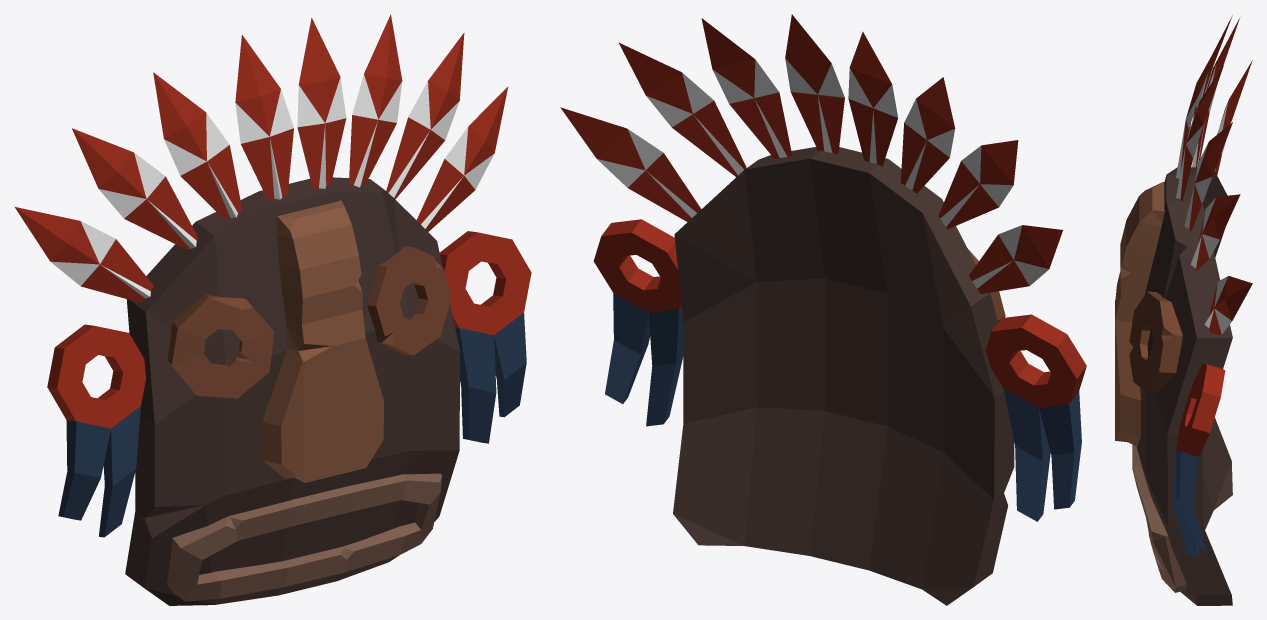
File: Mask_2.fbx
The picture shows the model from 3 angles, left to right: view 1: azimuth 30°, elevation 25°; view 2: azimuth 150°, elevation 25°; view 3: azimuth 270°, elevation 25°; orthographic projection. The views are drawn at different scales.
Visible parts, largest first — view 1: Mask_2; view 2: Mask_2; view 3: Mask_2.
Boxes of the visible parts, box(x1,y1,x2,y2) form: Mask_2: box(15, 14, 531, 605); Mask_2: box(560, 14, 1086, 605); Mask_2: box(1115, 15, 1252, 605).
Bounding box in the file's own units: 0.9229 × 0.9638 × 0.24.
